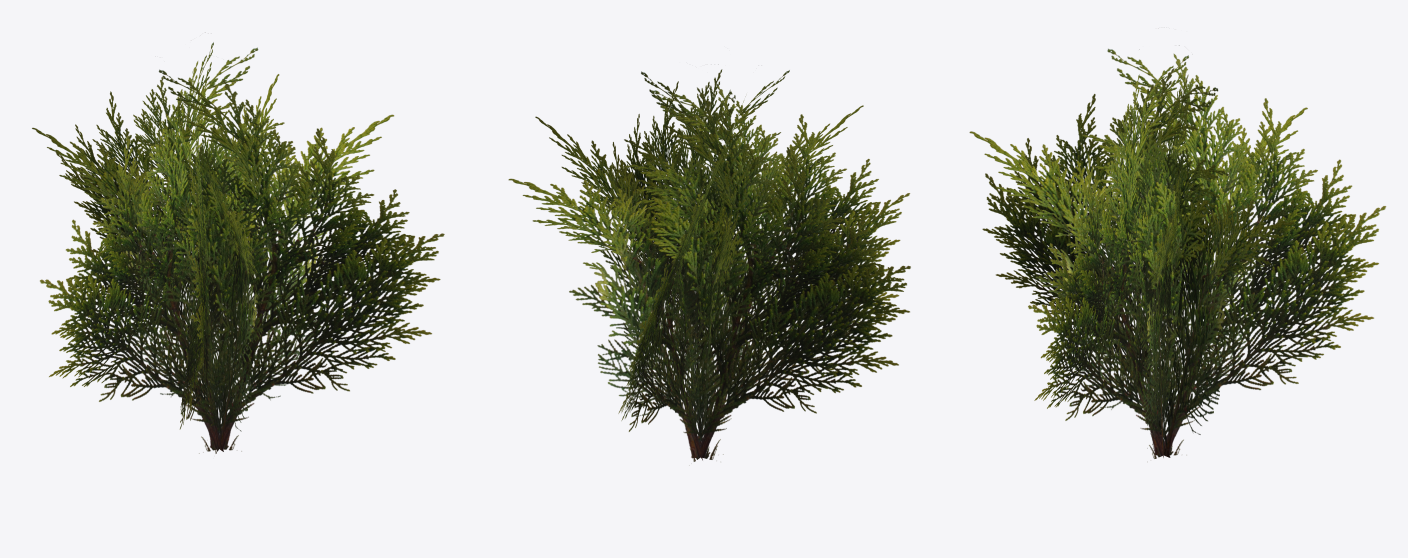
Rendered from leaves_with_alpha.glb.
3 renders of one model, left to right at view 1: azimuth 30°, elevation 25°; view 2: azimuth 150°, elevation 25°; view 3: azimuth 270°, elevation 25°, orthographic.
Visible parts, largest first — view 1: Plane.001; view 2: Plane.001; view 3: Plane.001.
Boxes of the visible parts, bbox=[...] form: Plane.001: bbox=[32, 42, 444, 453]; Plane.001: bbox=[508, 69, 910, 461]; Plane.001: bbox=[969, 45, 1386, 458].
Bounding box in the file's own units: 2 × 2.01 × 2.
Materials: 1 (1 with a texture image).
